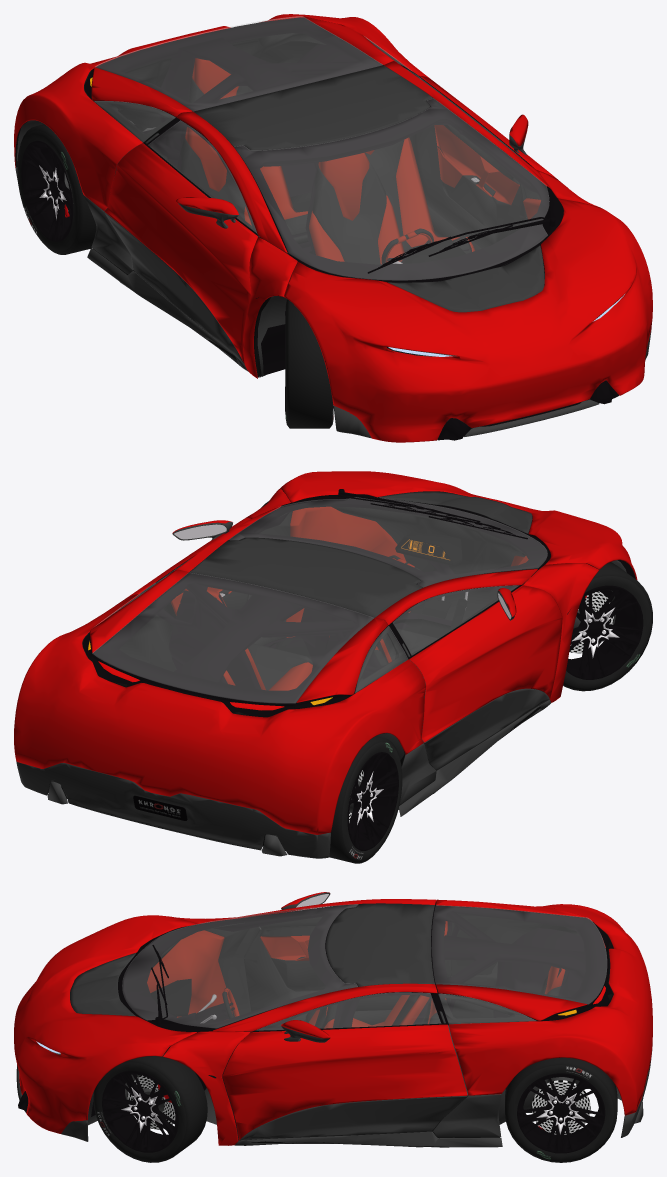
The model's file is car-concept-lod2.glb.
The picture shows the model from 3 angles, top to bottom: view 1: azimuth 30°, elevation 25°; view 2: azimuth 150°, elevation 25°; view 3: azimuth 270°, elevation 25°; orthographic projection. The views are drawn at different scales.
Visible parts, largest first — view 1: BodyHood, BodyWindshield, BodyRearwindow, BodyDoorRColor1, BodyRearPanelsColor1, BodyRoofPanel, BodyWindshieldGasket, InteriorSeatsColor1, InteriorSeatsColor2, BodyPillars, InteriorPillar, InteriorRearHatch (+21 smaller); view 2: BodyRearPanelsColor1, BodyRearwindow, BodyWindshield, BodyDoorRColor1, BodyPanelsColor2, BodyRoofPanel, BodyHood, InteriorRearHatch, BodyPillars, InteriorPillar, InteriorDashMid, BodyWindshieldGasket (+23 smaller); view 3: BodyRearPanelsColor1, BodyWindshield, BodyDoorLColor1, BodyHood, BodyRearwindow, BodyRoofPanel, BodyPillars, BodyWindshieldGasket, BodyDoorLColor2, BodyPanelsColor2, WheelFrontL, InteriorRearHatch (+25 smaller).
Boxes of the visible parts, box(x1,y1,x2,y2) form: BodyHood: box(284, 198, 652, 442); BodyWindshield: box(234, 98, 549, 280); BodyRearwindow: box(95, 16, 382, 110); BodyDoorRColor1: box(104, 143, 257, 363); BodyRearPanelsColor1: box(14, 14, 429, 210); BodyRoofPanel: box(193, 65, 432, 150); BodyWindshieldGasket: box(234, 99, 563, 282); InteriorSeatsColor1: box(185, 58, 474, 264); InteriorSeatsColor2: box(180, 78, 471, 264); BodyPillars: box(176, 61, 599, 378); InteriorPillar: box(158, 37, 434, 169); InteriorRearHatch: box(93, 17, 383, 118); BodyRearPanelsColor1: box(14, 569, 425, 834); BodyRearwindow: box(92, 573, 373, 703); BodyWindshield: box(229, 497, 547, 587); BodyDoorRColor1: box(409, 585, 562, 742); BodyPanelsColor2: box(16, 700, 550, 858); BodyRoofPanel: box(189, 537, 422, 617); BodyHood: box(277, 471, 637, 579); InteriorRearHatch: box(93, 573, 385, 707); BodyPillars: box(173, 489, 598, 702); InteriorPillar: box(174, 574, 417, 682); InteriorDashMid: box(331, 502, 528, 622); BodyWindshieldGasket: box(230, 497, 550, 587); BodyRearPanelsColor1: box(436, 899, 652, 1115); BodyWindshield: box(122, 904, 357, 1028); BodyDoorLColor1: box(222, 1024, 467, 1140); BodyHood: box(14, 915, 196, 1133); BodyRearwindow: box(432, 905, 606, 1003); BodyRoofPanel: box(326, 903, 434, 986); BodyPillars: box(163, 899, 437, 1145); BodyWindshieldGasket: box(118, 905, 357, 1032); BodyDoorLColor2: box(240, 1096, 467, 1140); BodyPanelsColor2: box(16, 1046, 652, 1147); WheelFrontL: box(93, 1054, 207, 1162); InteriorRearHatch: box(431, 905, 606, 1021).
Size of the model in its own units: 2.68 by 1.21 by 4.6.
Materials: 23 (6 with a texture image).
